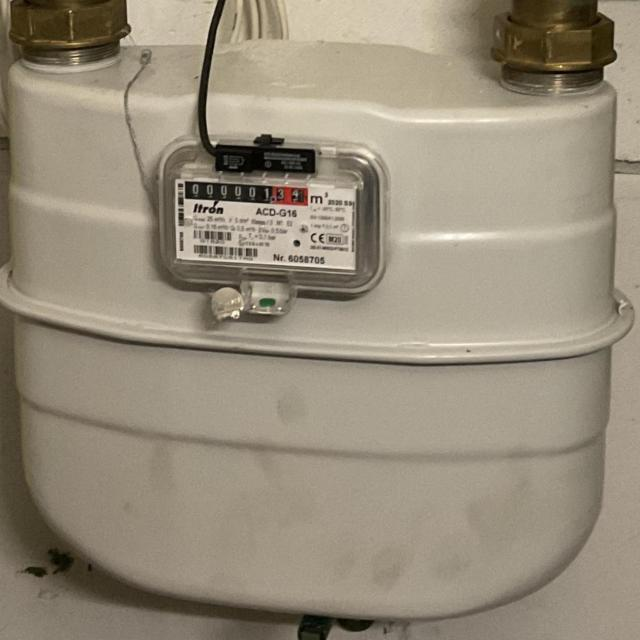gaz_meter: (164, 155, 381, 285)
indication: (182, 178, 309, 207)
